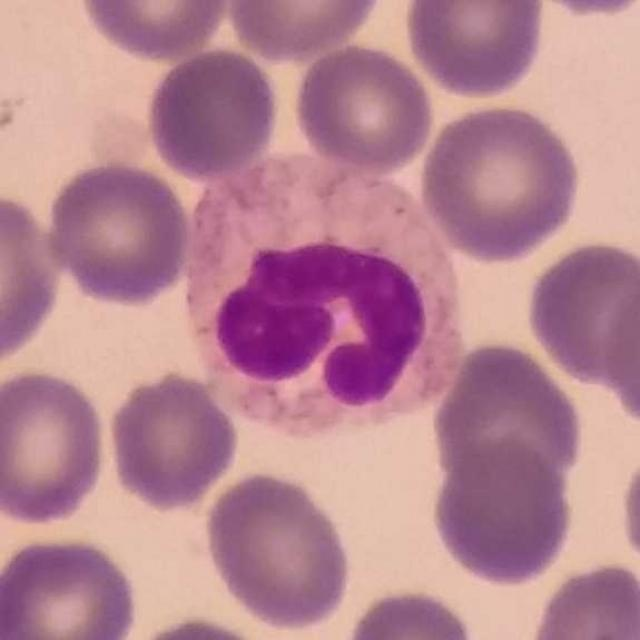Neutrophil: (178, 149, 468, 437)
RBC: (415, 99, 586, 265), (200, 466, 355, 634), (428, 336, 586, 498), (40, 157, 196, 308), (426, 436, 579, 589), (290, 39, 436, 177), (104, 366, 242, 512), (142, 45, 282, 182), (0, 364, 111, 530), (522, 236, 640, 387), (0, 531, 142, 640), (400, 0, 548, 101), (0, 185, 66, 373), (222, 0, 388, 62), (76, 0, 235, 62), (524, 557, 640, 640), (597, 256, 640, 439), (340, 584, 480, 640), (123, 612, 280, 640), (616, 436, 640, 593), (516, 0, 640, 20)
